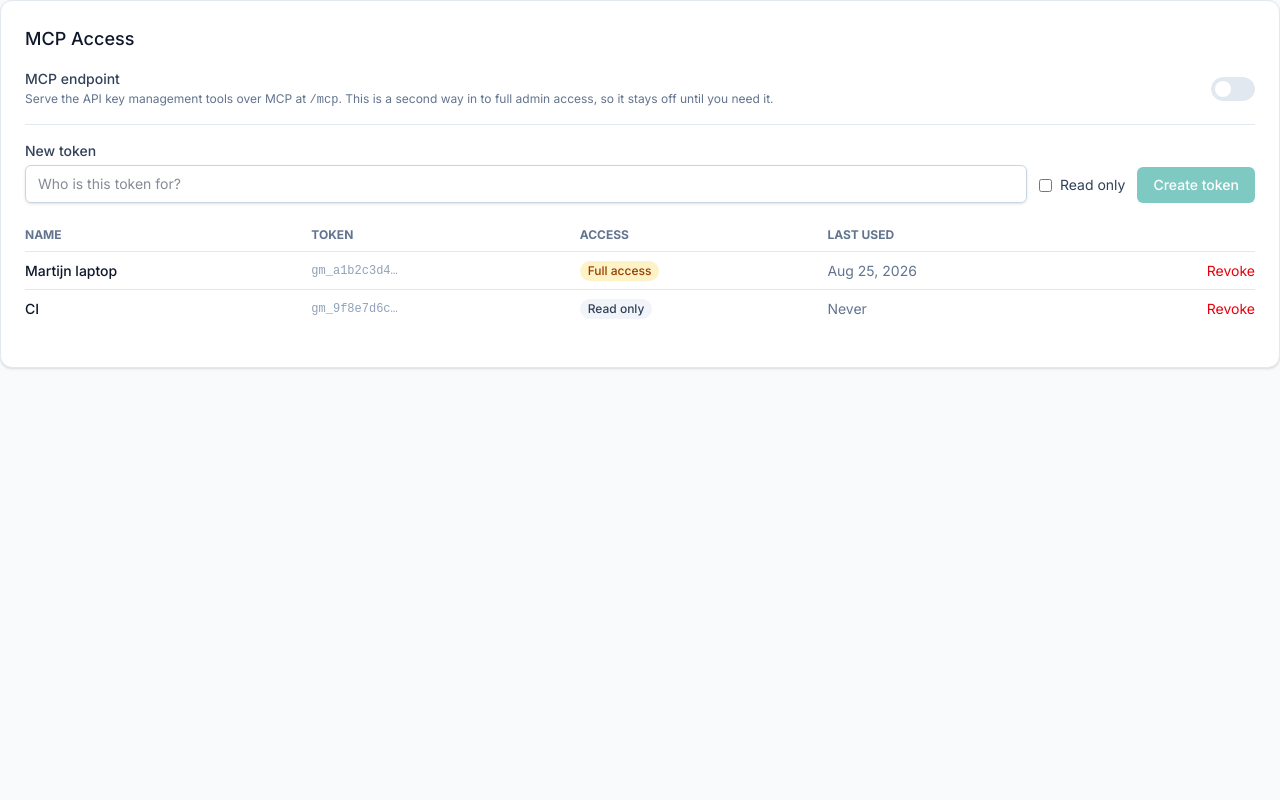
MCPTokensPanel › keeps the dialog closed and reports when revoking fails
This screenshot has width=1280, height=800.
Click the button with aria-label "Revoke CI": (1231, 308) [1207,298,1255,318]
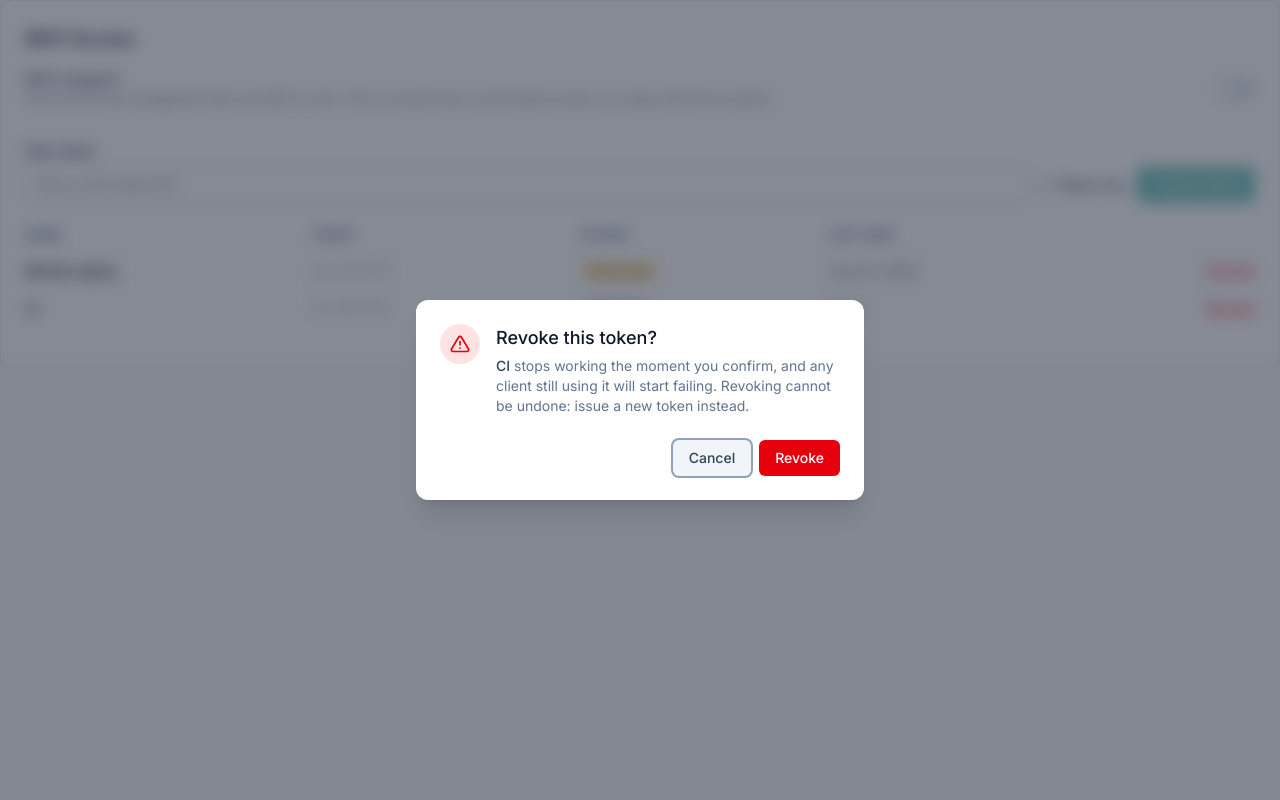
Click the button "Revoke": (800, 458) [759,440,840,476]
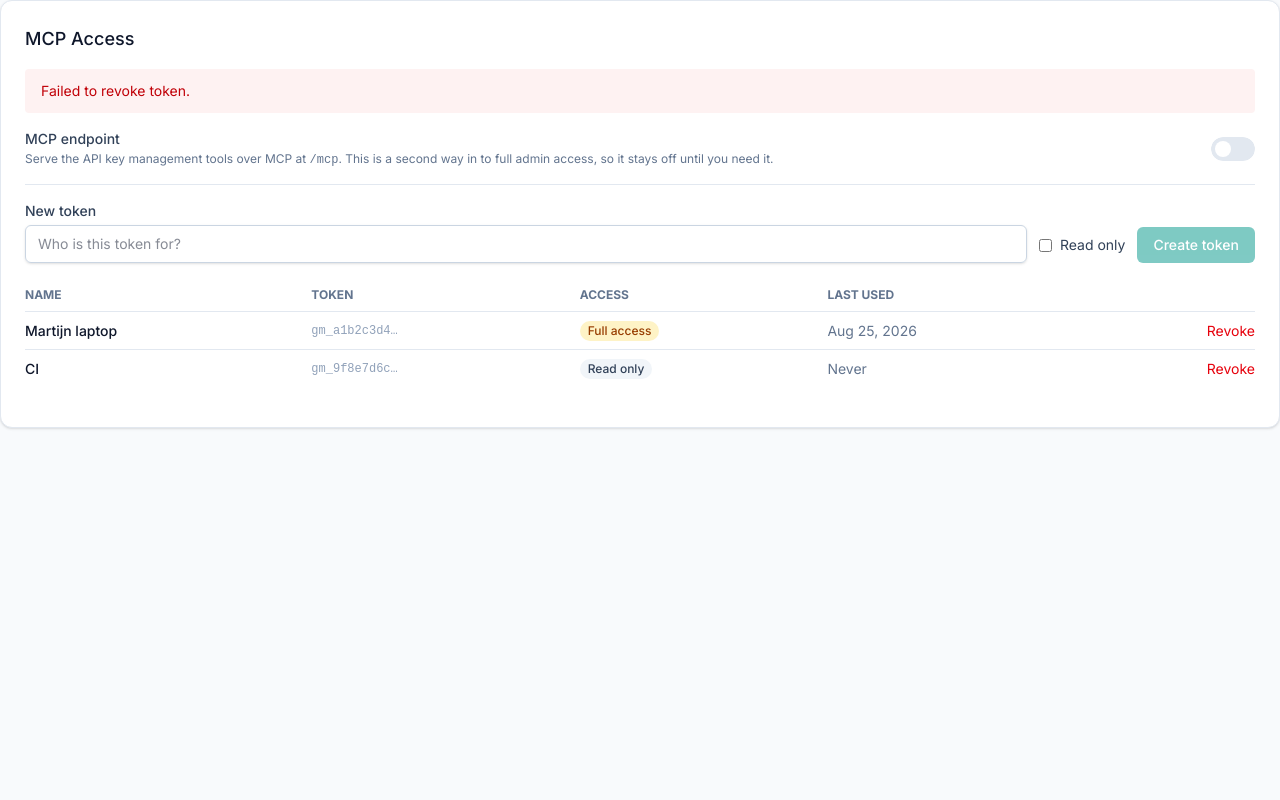
Result: the text "Failed to revoke token." is shown at [25,69,1255,113]
